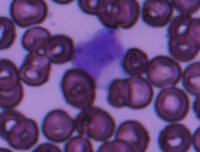M: (74, 28, 125, 74)
